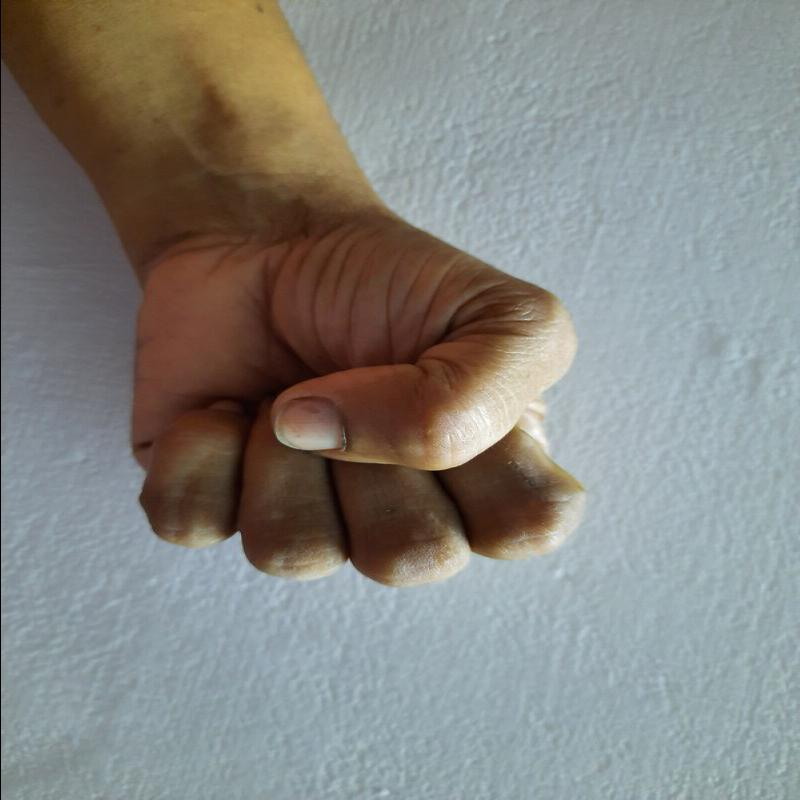Mushti: (102, 195, 612, 616)
